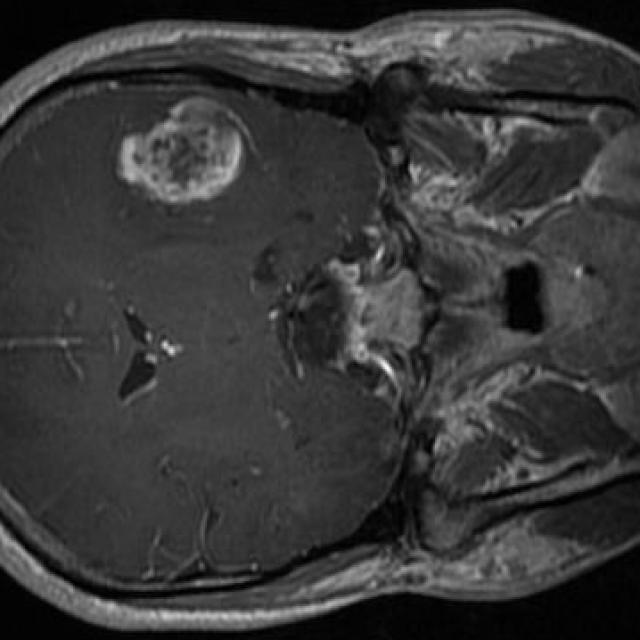glioma: (118, 98, 251, 207)
